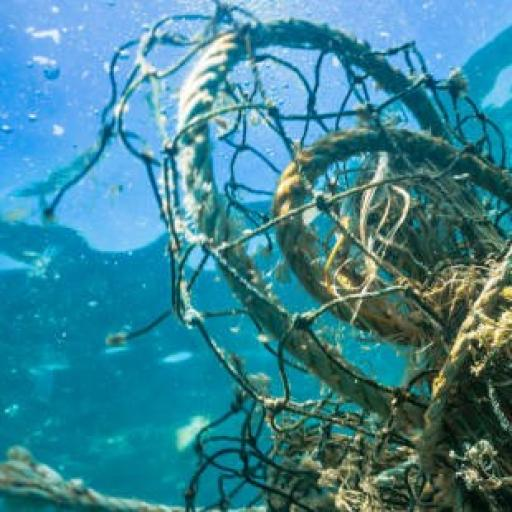net: (97, 0, 512, 512)
